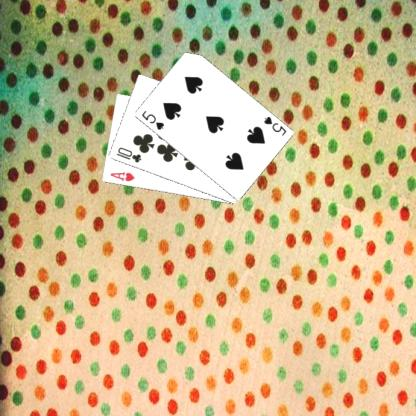10C: (114, 145, 142, 164)
5S: (261, 113, 288, 138), (139, 108, 165, 131)
AH: (107, 169, 136, 183)
